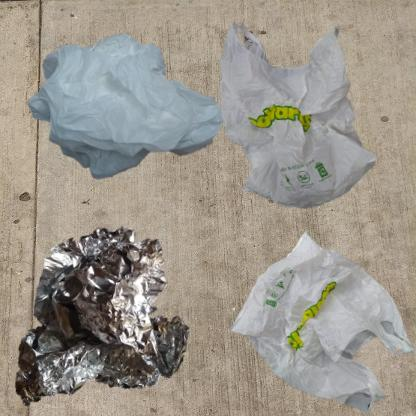aluminio: (10, 213, 207, 416)
bolsa: (10, 10, 265, 232), (213, 213, 416, 416), (213, 10, 384, 219)
